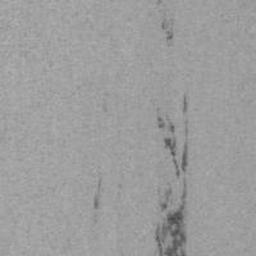Inclusion: (152, 106, 189, 256), (93, 175, 104, 211), (160, 15, 175, 41), (182, 93, 189, 114), (184, 119, 189, 138)
